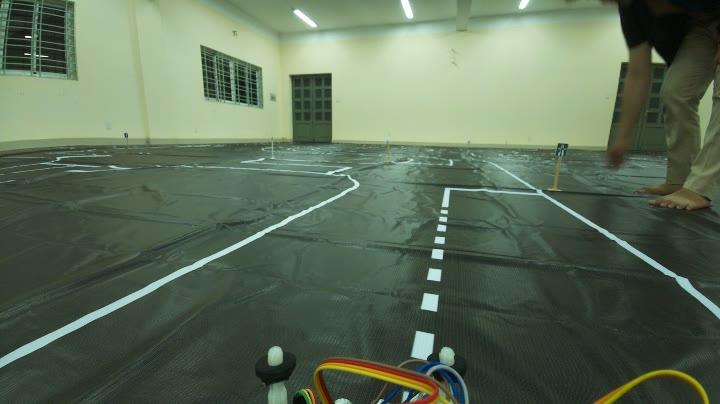highway_exit: (552, 140, 572, 160)
